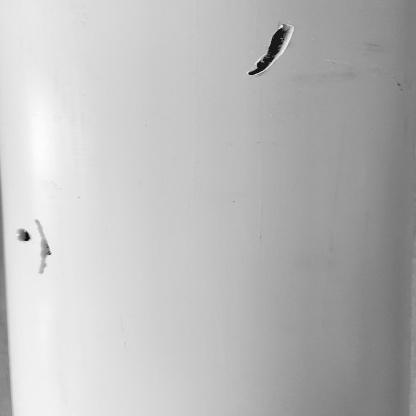fengxi: (32, 216, 57, 278)
kongdong: (243, 21, 298, 79), (3, 223, 34, 248)
